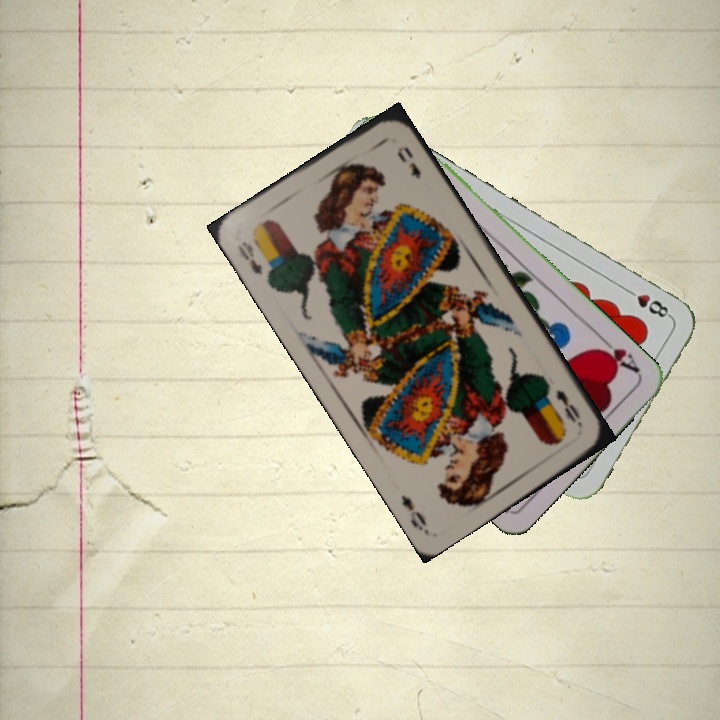EO: (233, 237, 275, 286), (551, 385, 585, 430)
H8: (621, 284, 674, 321)
HA: (592, 331, 643, 376)
